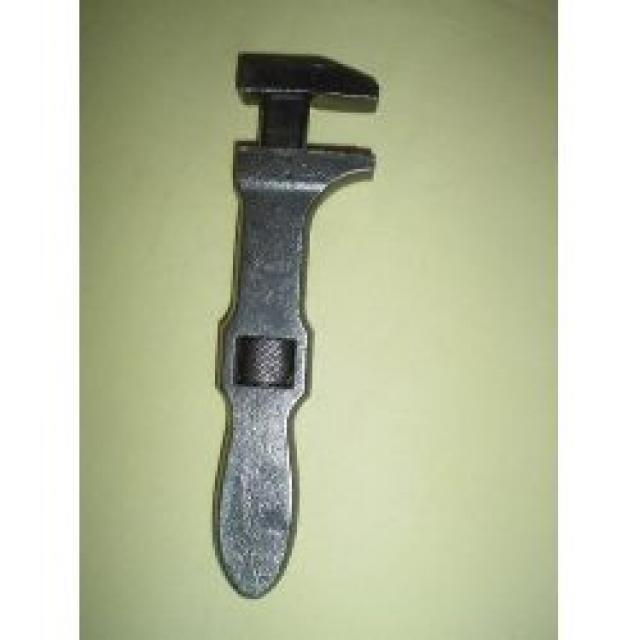wrench: (196, 43, 392, 612)
